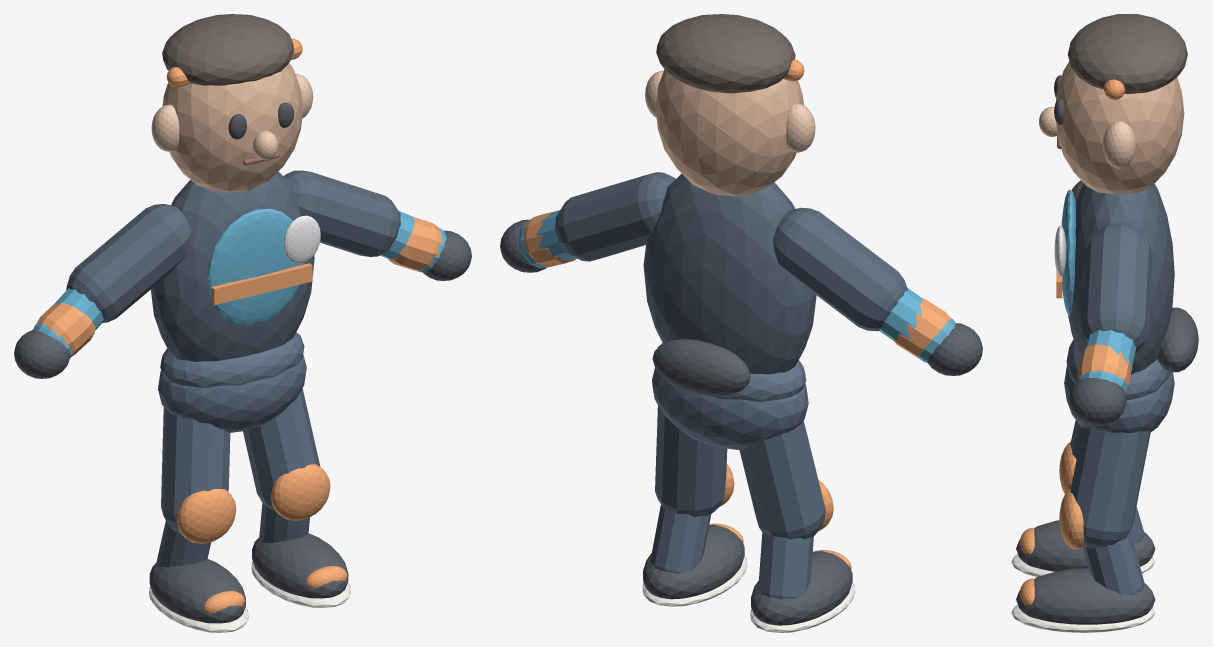
File: 07_the_pro.glb
3 renders of one model, left to right at view 1: azimuth 30°, elevation 25°; view 2: azimuth 150°, elevation 25°; view 3: azimuth 270°, elevation 25°, orthographic. The views are drawn at different scales.
Visible parts, largest first — view 1: Torso, Head, Left upper arm, Hair, Chest panel, Right upper arm, Shorts or hip section, Left thigh, Right thigh, Left shoe, Right shoe, Waist (+17 smaller); view 2: Torso, Head, Left upper arm, Hair, Left thigh, Right upper arm, Shorts or hip section, Right thigh, Small waist pack, Left shoe, Right shoe, Left shin (+11 smaller); view 3: Head, Torso, Hair, Right upper arm, Right thigh, Right shoe, Left shoe, Right shin, Shorts or hip section, Right glove, Small waist pack, Waist (+15 smaller).
Boxes of the visible parts, x1,y1,x2,y2 form: Torso: [151, 171, 314, 361]; Head: [162, 63, 302, 192]; Left upper arm: [66, 204, 191, 322]; Hair: [162, 14, 294, 85]; Chest panel: [207, 208, 304, 325]; Right upper arm: [283, 170, 400, 256]; Shorts or hip section: [158, 354, 306, 432]; Left thigh: [161, 407, 230, 534]; Right thigh: [243, 388, 320, 511]; Left shoe: [149, 559, 245, 623]; Right shoe: [252, 533, 348, 598]; Waist: [160, 332, 304, 387]; Torso: [643, 173, 816, 374]; Head: [655, 69, 803, 195]; Left upper arm: [772, 207, 907, 331]; Hair: [656, 14, 795, 93]; Left thigh: [739, 420, 825, 539]; Right upper arm: [555, 172, 675, 261]; Shorts or hip section: [652, 368, 808, 449]; Right thigh: [655, 406, 727, 517]; Small waist pack: [652, 338, 750, 396]; Left shoe: [751, 551, 852, 625]; Right shoe: [643, 524, 744, 599]; Left shin: [758, 533, 813, 599]; Head: [1055, 61, 1184, 194]; Torso: [1068, 184, 1174, 374]; Hair: [1067, 14, 1187, 93]; Right upper arm: [1082, 223, 1152, 353]; Right thigh: [1070, 426, 1150, 548]; Right shoe: [1016, 568, 1155, 624]; Left shoe: [1016, 520, 1155, 571]; Right shin: [1083, 531, 1144, 595]; Shorts or hip section: [1064, 365, 1174, 432]; Right glove: [1069, 378, 1126, 425]; Small waist pack: [1157, 307, 1198, 372]; Waist: [1066, 339, 1170, 400].
Size of the model in its own units: 2.2 by 2.63 by 0.78.
